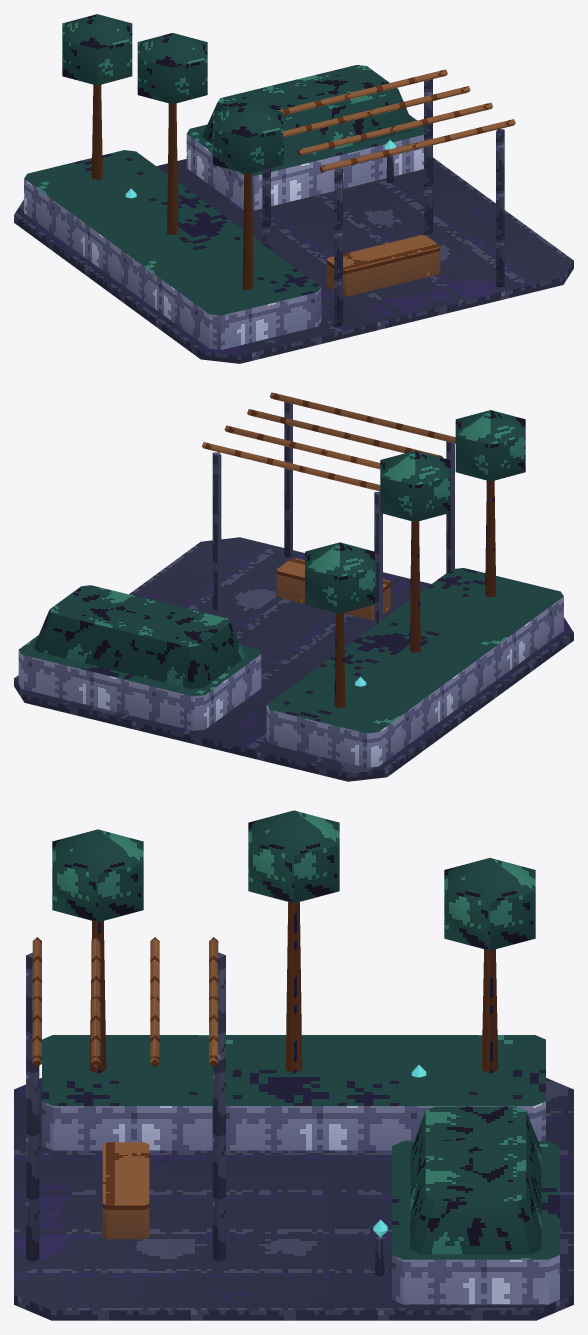
File: cytower.garden.glb
The picture shows the model from 3 angles, top to bottom: view 1: azimuth 30°, elevation 25°; view 2: azimuth 150°, elevation 25°; view 3: azimuth 270°, elevation 25°; orthographic projection. The views are drawn at different scales.
Parts seen in each view (by area): view 1: kit_beds, kit_plants, kit_pergola; view 2: kit_beds, kit_plants, kit_pergola; view 3: kit_beds, kit_plants, kit_pergola.
Part boxes in pixels (x1=…): kit_beds: x1=14, y1=114, x2=573, y2=363; kit_plants: x1=62, y1=14, x2=412, y2=290; kit_pergola: x1=125, y1=69, x2=515, y2=326; kit_beds: x1=14, y1=537, x2=573, y2=781; kit_plants: x1=34, y1=410, x2=525, y2=707; kit_pergola: x1=202, y1=392, x2=455, y2=686; kit_beds: x1=14, y1=1035, x2=573, y2=1320; kit_plants: x1=52, y1=810, x2=541, y2=1254; kit_pergola: x1=26, y1=937, x2=426, y2=1276.
Bounding box in the file's own units: 6 × 3.72 × 6.
9 materials, 9 textured.
